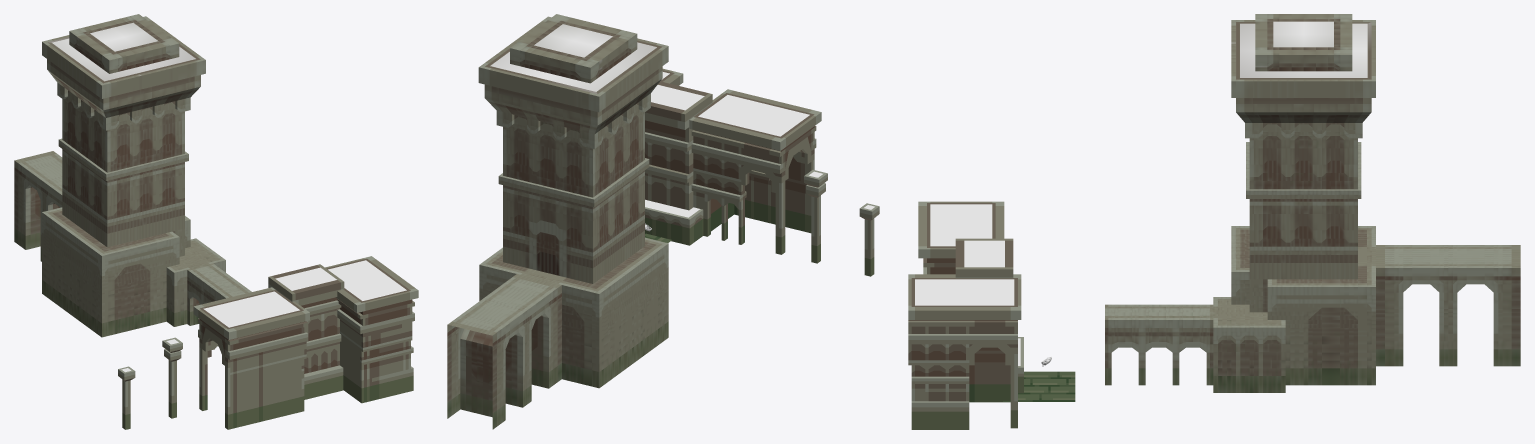
The model's file is sunkenCityRuinStone1.fbx.
3 renders of one model, left to right at view 1: azimuth 30°, elevation 25°; view 2: azimuth 150°, elevation 25°; view 3: azimuth 270°, elevation 25°, orthographic. The views are drawn at different scales.
Parts seen in each view (by area): view 1: group, ruins, ruins_2, wall, mesh_selection, mesh_selection_1, grass_3, grass_5, grass_6, grass_7, pillar, grass_4 (+1 smaller); view 2: group, ruins, mesh_selection, wall, grass_3, grass_6, wall_1, grass_7, pillar, pillar_1, grass_4, grass; view 3: group, ruins_2, mesh_selection, mesh_selection_1, grass_5, grass_6, grass_3, ruins, plane, grass_7, wall, grass_4.
Part boxes in pixels (left/top/right/bottom): group: left=42, top=14, right=225, bottom=337; ruins: left=193, top=287, right=309, bottom=429; ruins_2: left=325, top=256, right=418, bottom=403; wall: left=268, top=264, right=344, bottom=399; mesh_selection: left=14, top=151, right=62, bottom=261; mesh_selection_1: left=187, top=263, right=251, bottom=346; grass_3: left=203, top=291, right=299, bottom=327; grass_5: left=328, top=260, right=406, bottom=300; grass_6: left=52, top=38, right=195, bottom=81; grass_7: left=90, top=22, right=157, bottom=51; pillar: left=162, top=337, right=182, bottom=418; grass_4: left=275, top=267, right=336, bottom=290; group: left=478, top=14, right=668, bottom=388; ruins: left=689, top=89, right=821, bottom=254; mesh_selection: left=447, top=274, right=561, bottom=429; wall: left=645, top=81, right=712, bottom=210; grass_3: left=698, top=95, right=809, bottom=136; grass_6: left=490, top=42, right=656, bottom=91; wall_1: left=645, top=207, right=703, bottom=245; grass_7: left=534, top=24, right=612, bottom=57; pillar: left=804, top=170, right=827, bottom=263; pillar_1: left=859, top=203, right=879, bottom=276; grass_4: left=651, top=85, right=704, bottom=110; grass: left=645, top=199, right=699, bottom=217; group: left=1213, top=14, right=1375, bottom=392; ruins_2: left=908, top=274, right=1021, bottom=429; mesh_selection: left=1376, top=245, right=1520, bottom=366; mesh_selection_1: left=1105, top=304, right=1213, bottom=385; grass_5: left=915, top=279, right=1014, bottom=305; grass_6: left=1240, top=23, right=1367, bottom=77; grass_3: left=930, top=204, right=992, bottom=246; ruins: left=918, top=201, right=1004, bottom=274; plane: left=1003, top=371, right=1075, bottom=401; grass_7: left=1273, top=21, right=1333, bottom=47; wall: left=955, top=238, right=1013, bottom=278; grass_4: left=964, top=240, right=1004, bottom=267.
Size of the model in its own units: 4050 by 3919 by 6775.
